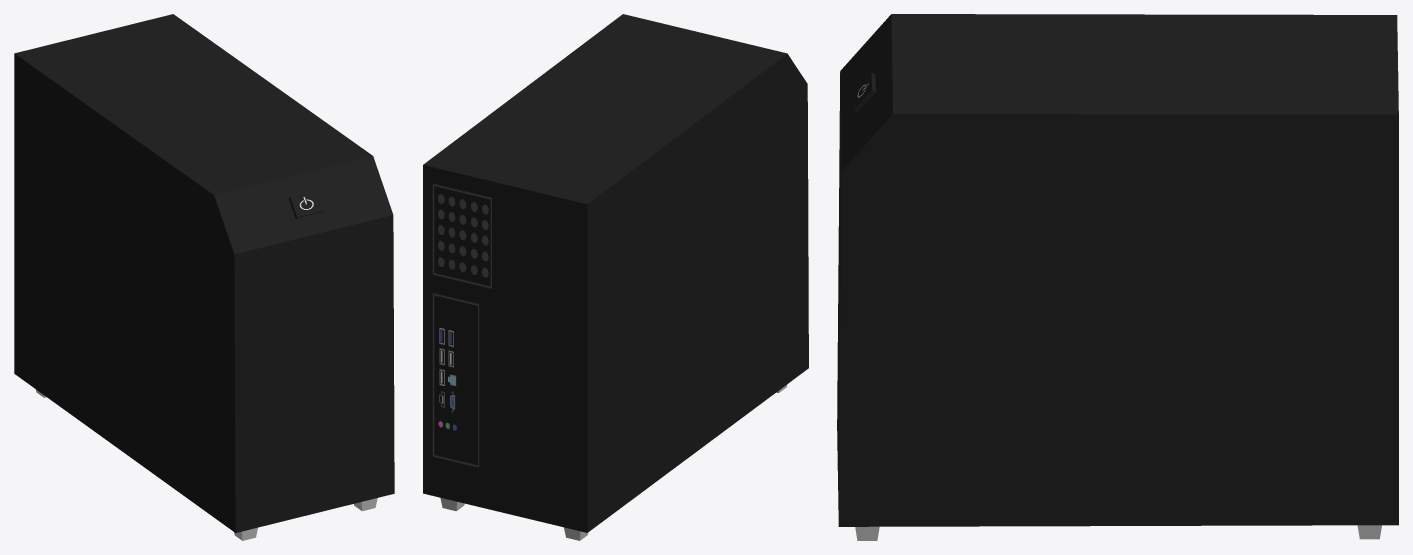
Rendered from komp.fbx.
The picture shows the model from 3 angles, left to right: view 1: azimuth 30°, elevation 25°; view 2: azimuth 150°, elevation 25°; view 3: azimuth 270°, elevation 25°; orthographic projection. The views are drawn at different scales.
Parts seen in each view (by area): view 1: komp; view 2: komp; view 3: komp.
Part boxes in pixels (x1,y1,x2,y2): komp: (14,14,394,540); komp: (423,14,808,540); komp: (837,14,1398,540).
Bounding box in the file's own units: 38.33 × 76.51 × 89.68.
Materials: 1 (1 with a texture image).
